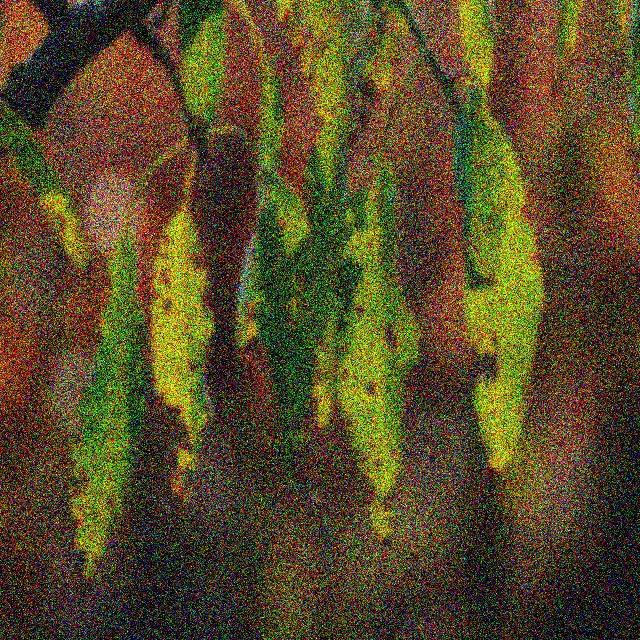leaf_spot: (263, 136, 461, 638), (459, 212, 636, 634), (153, 220, 255, 629)
